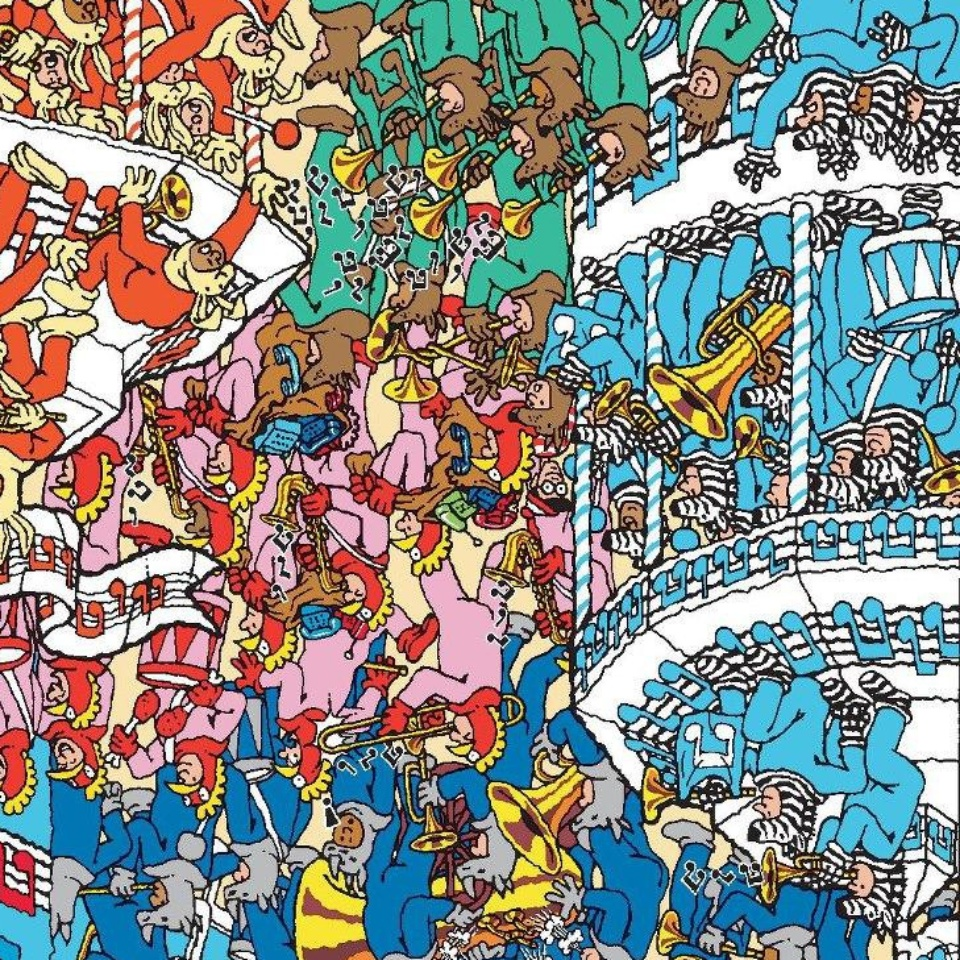waldo: (524, 441, 569, 518)
